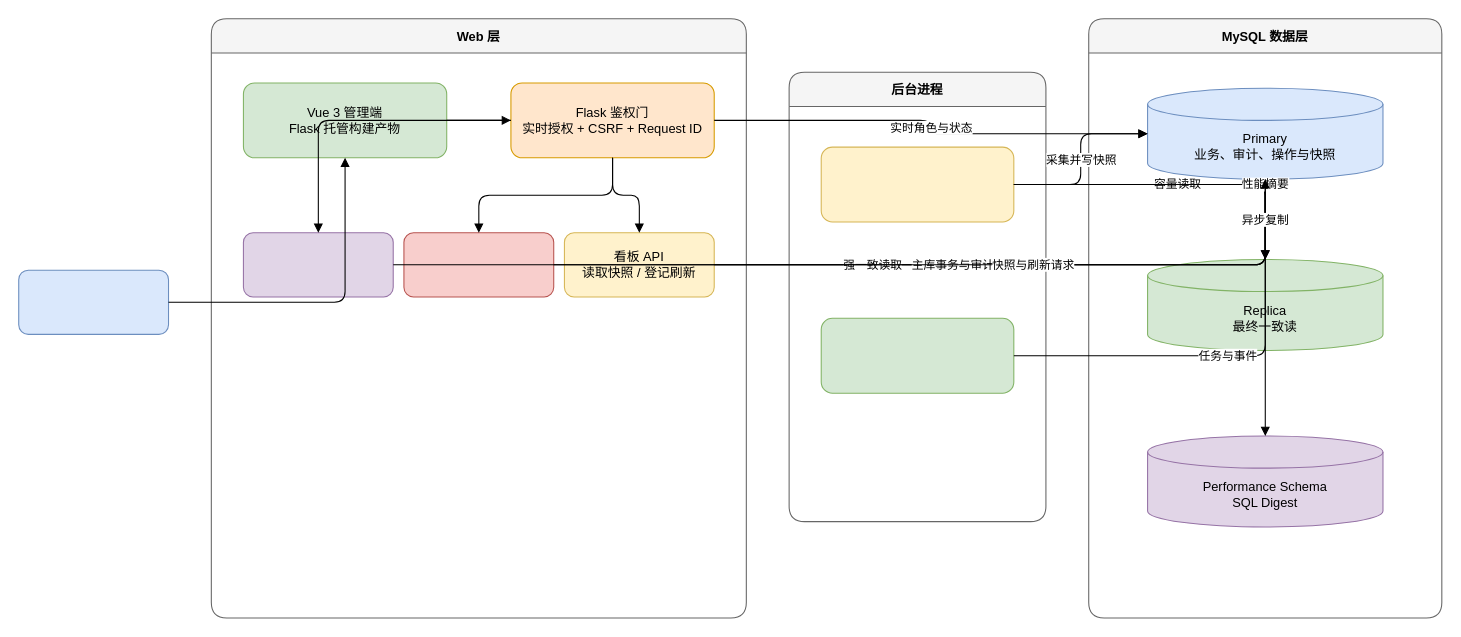
Image size: 1461x637. Some labels were removed from this diagram. The centre of each missing label's shape, as x and y in pixels:
"Agent Worker 任务与事件" goes at point 917,355.
"Monitor 分层采集与 deep audit" goes at point 917,184.
"业务只读服务" goes at point 317,264.
"受控写入服务" goes at point 478,264.
"管理员浏览器" goes at point 93,301.
